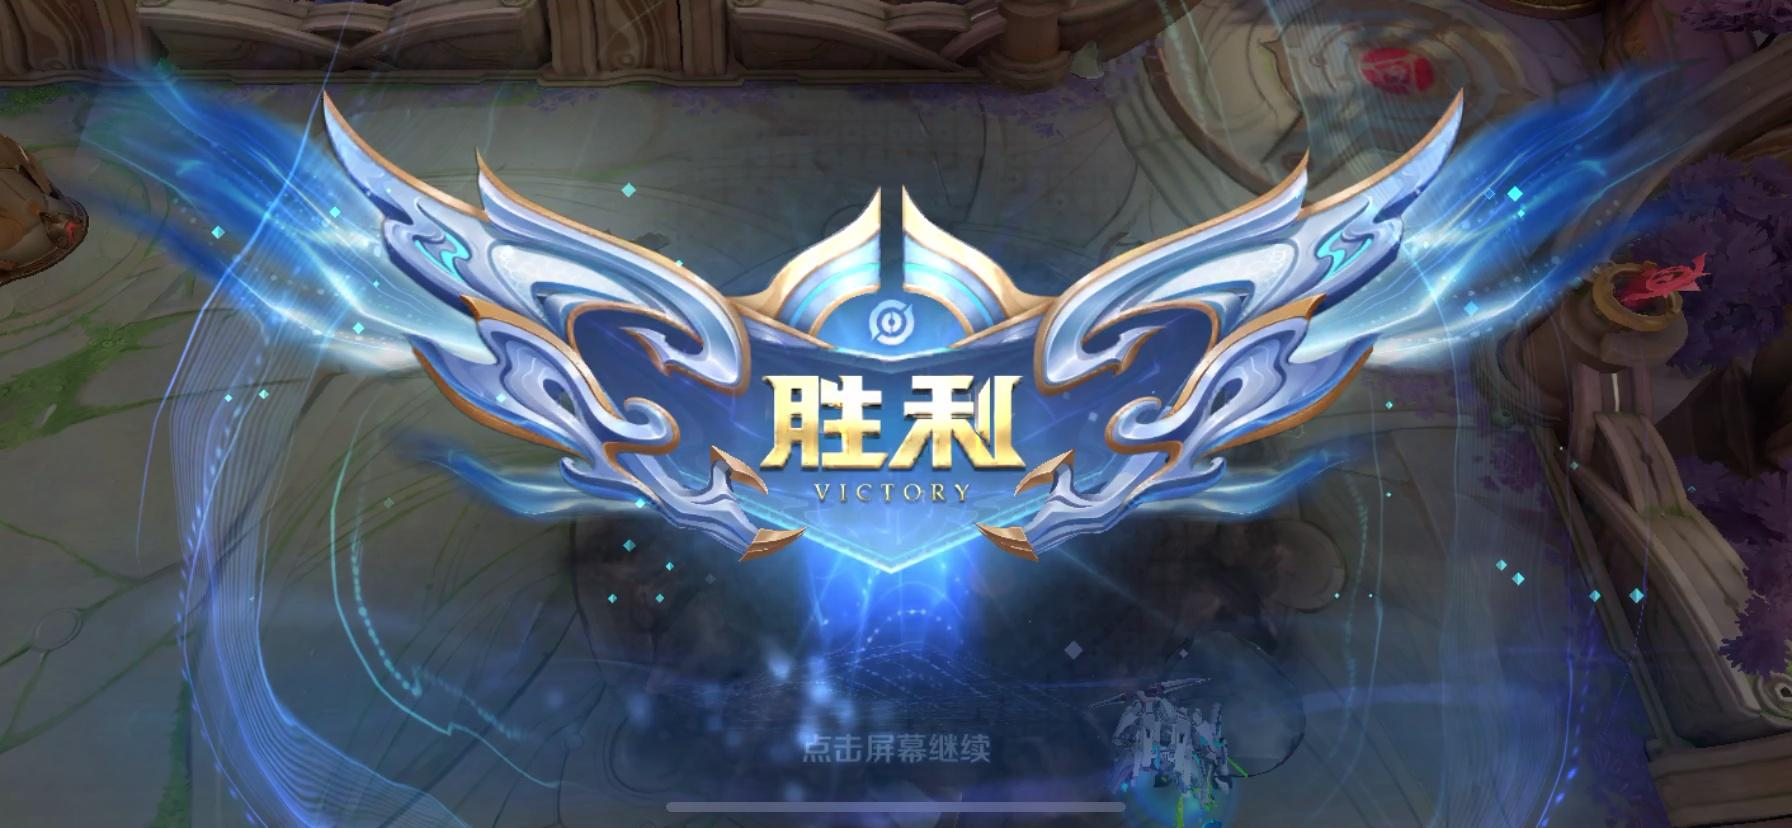Victory: (318, 87, 1467, 576)
